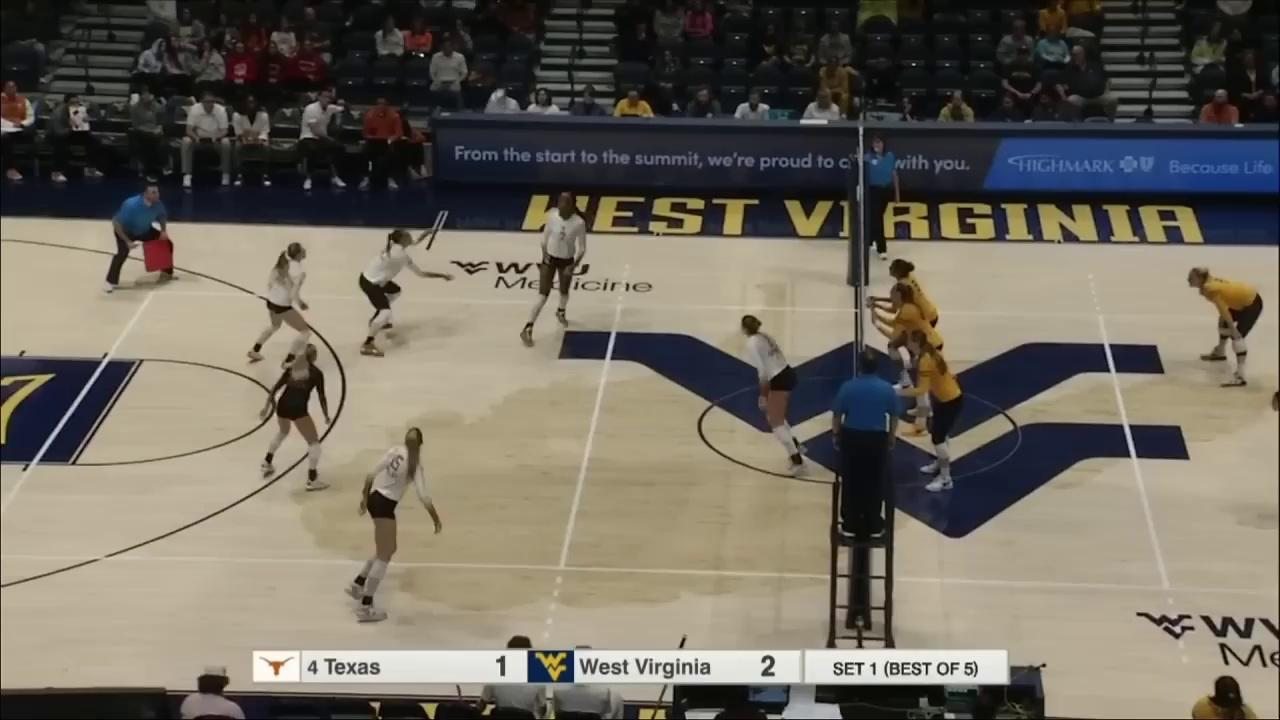player: (343, 427, 445, 623), (356, 227, 454, 354), (735, 316, 811, 477), (518, 187, 589, 347), (260, 343, 333, 489), (874, 283, 943, 433), (1187, 267, 1265, 387), (905, 331, 961, 492), (876, 259, 939, 394), (249, 243, 317, 367)
refree: (830, 355, 894, 536), (108, 181, 180, 292), (853, 139, 899, 260)
